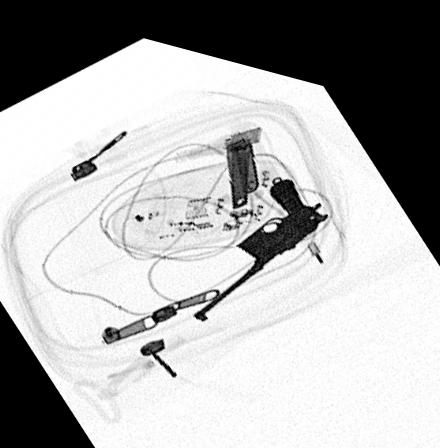Gun: (191, 159, 330, 310)
